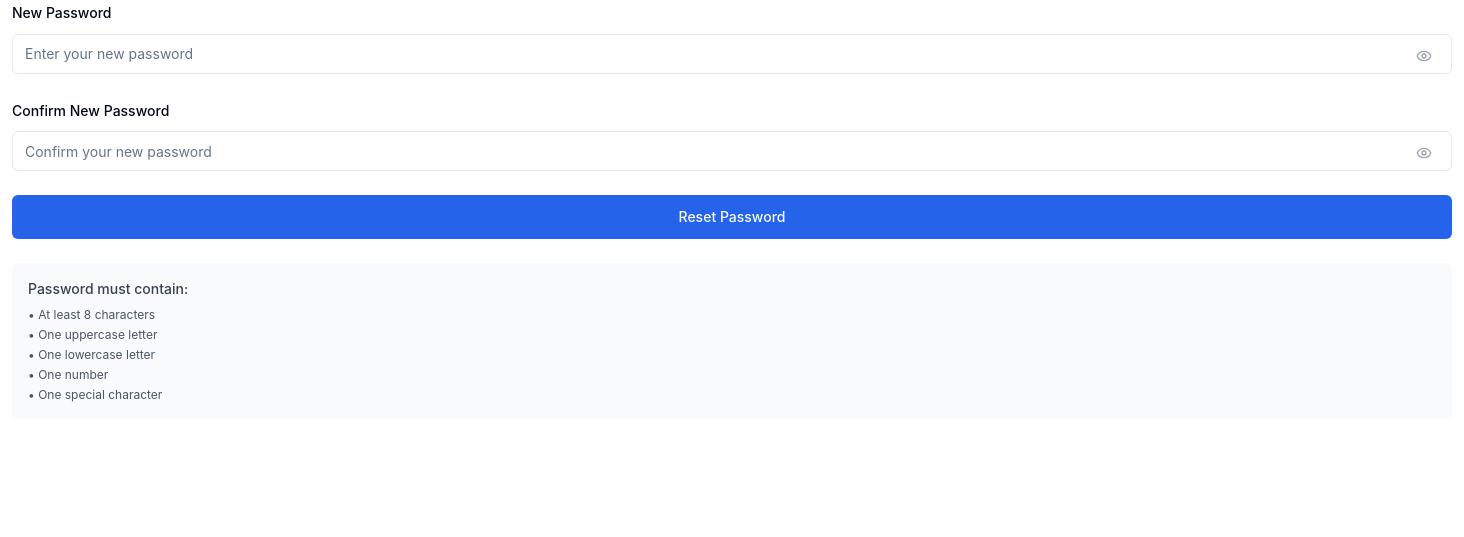
ResetPasswordForm › should display error message on submission failure
The image size is (1464, 537).
In the password field with placeholder "Enter your new password": (732, 54) [12,34,1452,74], type "Password123!"
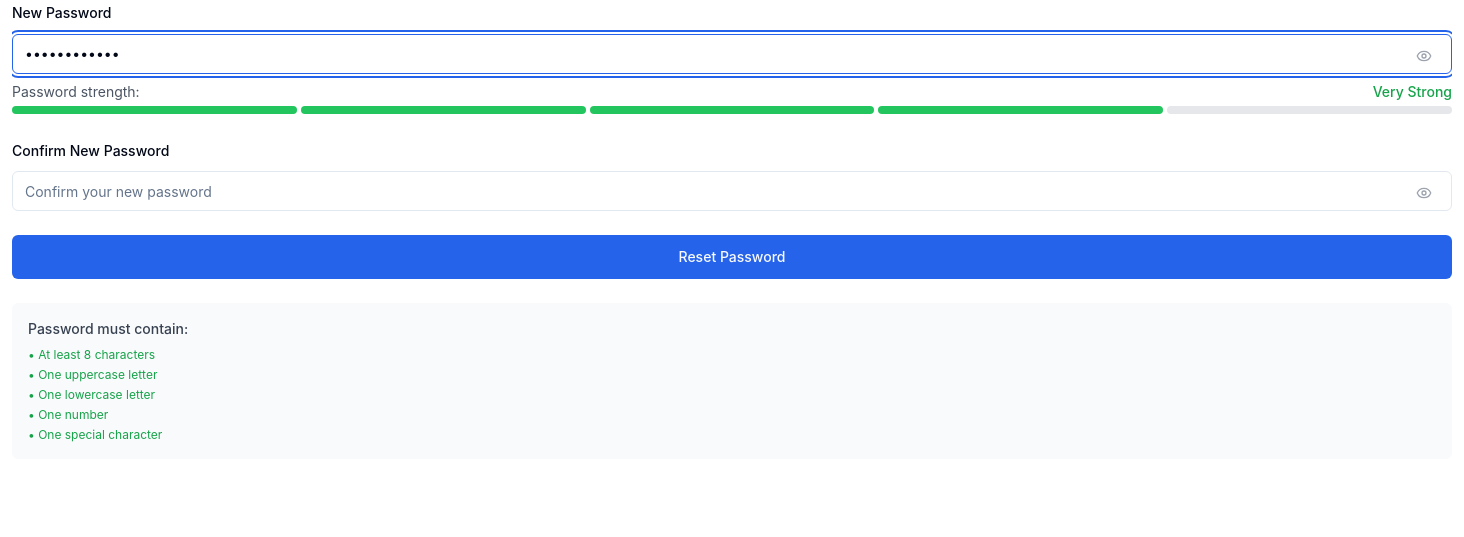
In the password field with placeholder "Confirm your new password": (732, 191) [12,171,1452,211], type "Password123!"
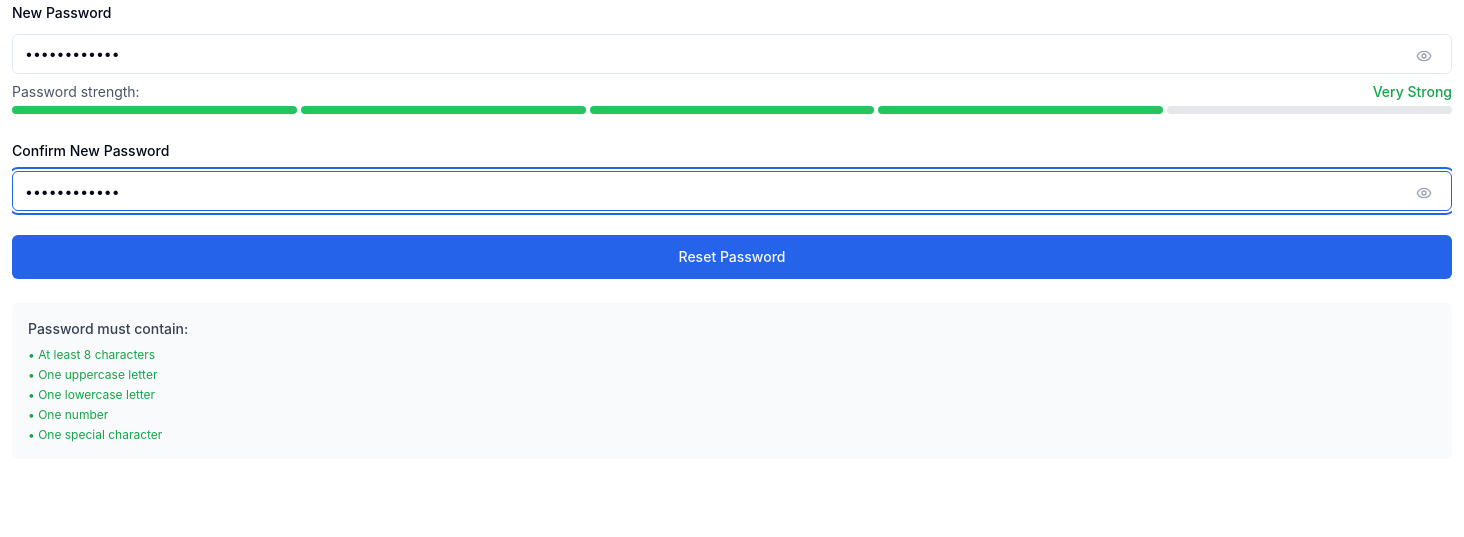
Click the button "Reset Password": (732, 257) [12,235,1452,279]
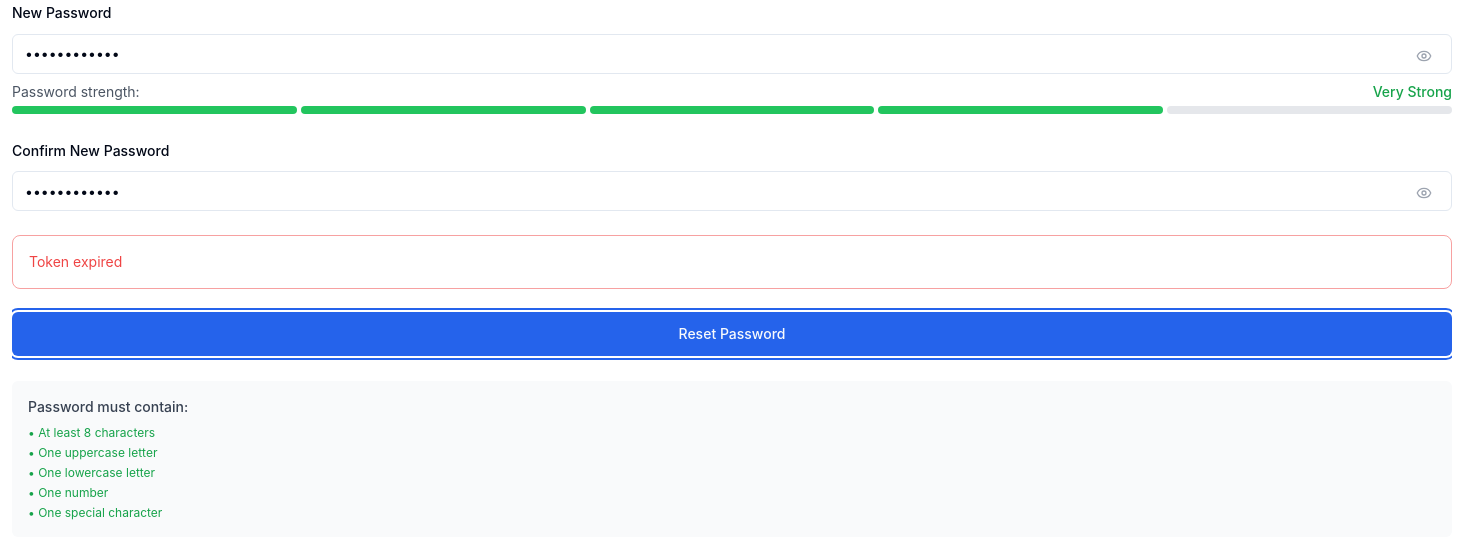
Check: the text "Token expired" is shown, box [29,253,122,270]
